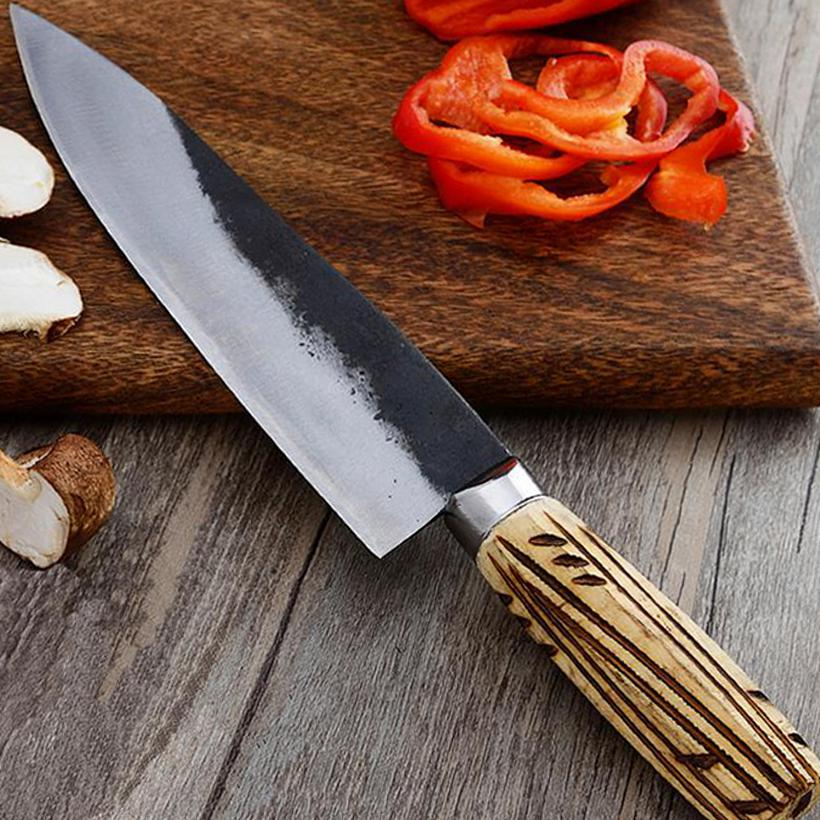knife: (7, 2, 815, 820)
